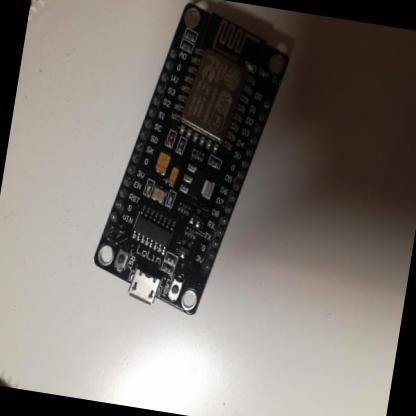ESP8266: (85, 1, 301, 329)
